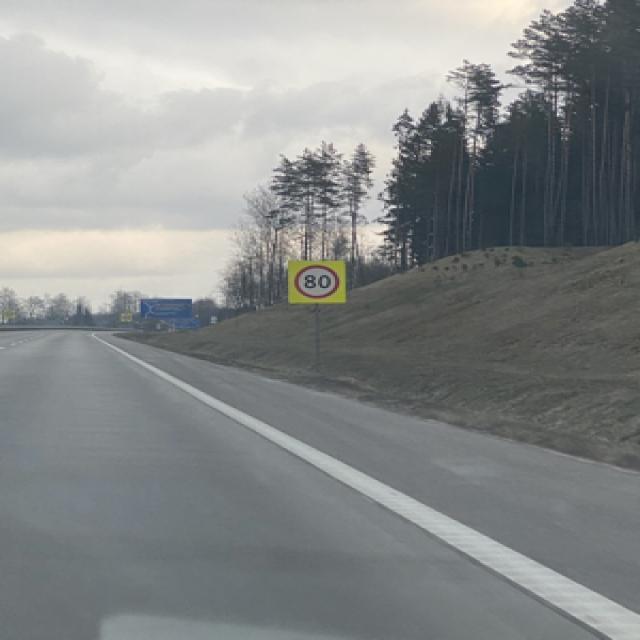speedlimit: (290, 262, 337, 298)
